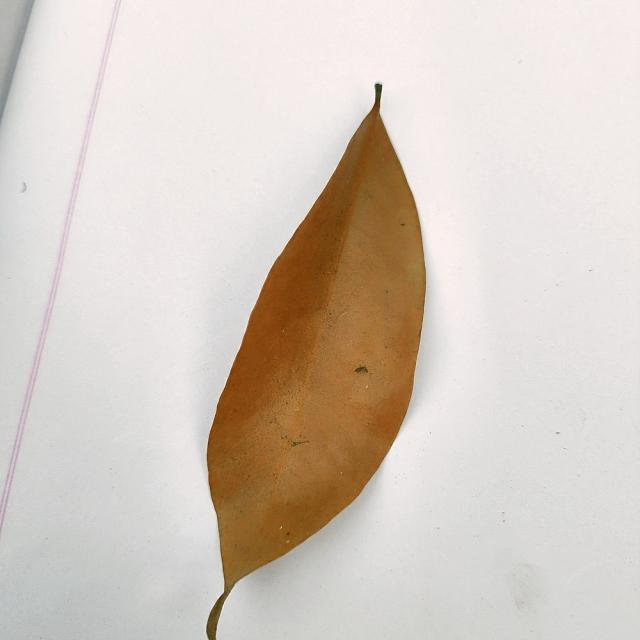Dry_Leaf-Lychee: (205, 88, 427, 639)
